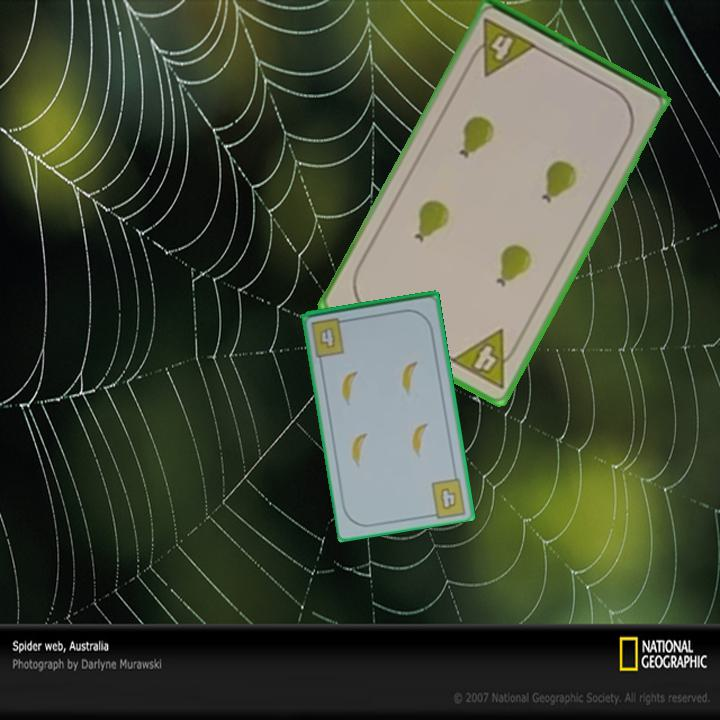4b: (307, 314, 352, 359), (437, 485, 460, 513)
4p: (446, 325, 525, 392), (464, 15, 540, 80)
